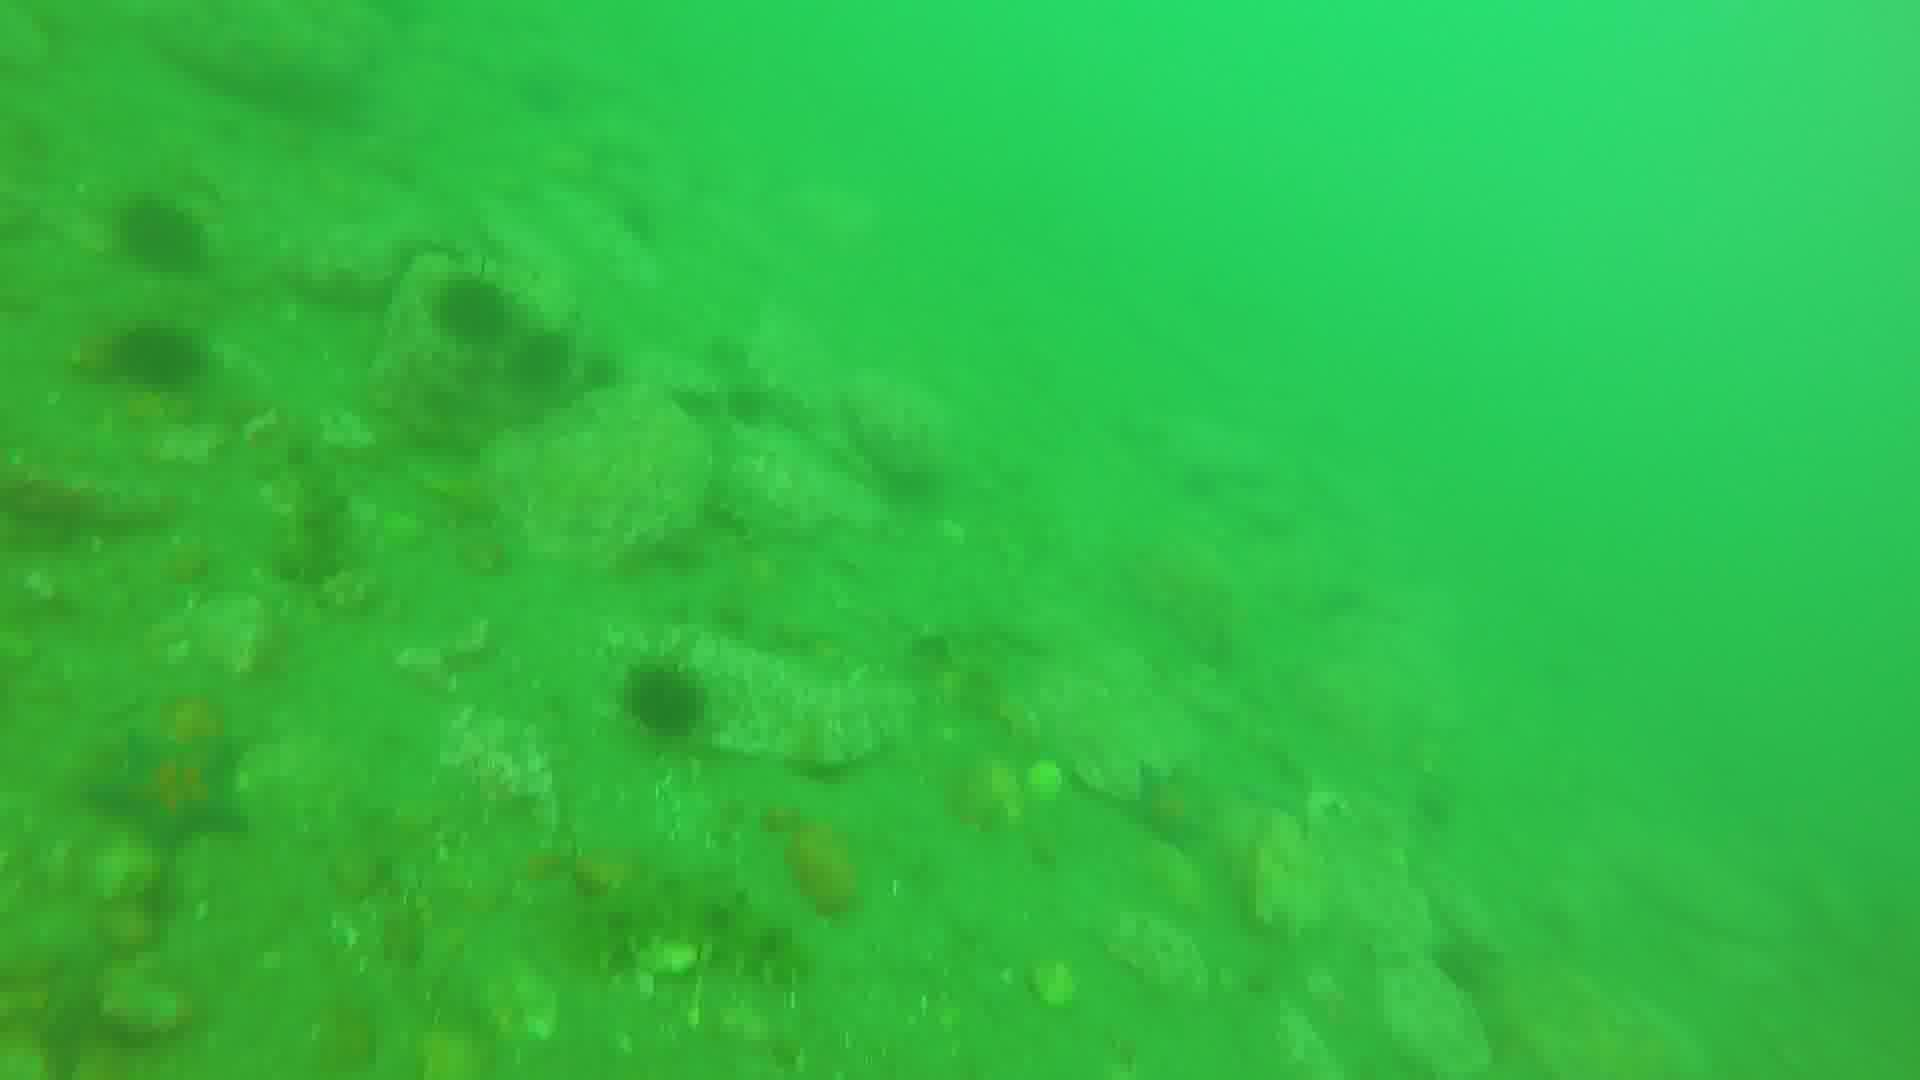echinus: (119, 316, 218, 392), (131, 198, 207, 286), (622, 662, 704, 744), (444, 273, 516, 348)
holothurian: (572, 884, 808, 994), (276, 430, 353, 589)
starfish: (91, 725, 248, 837), (1129, 757, 1220, 848)
